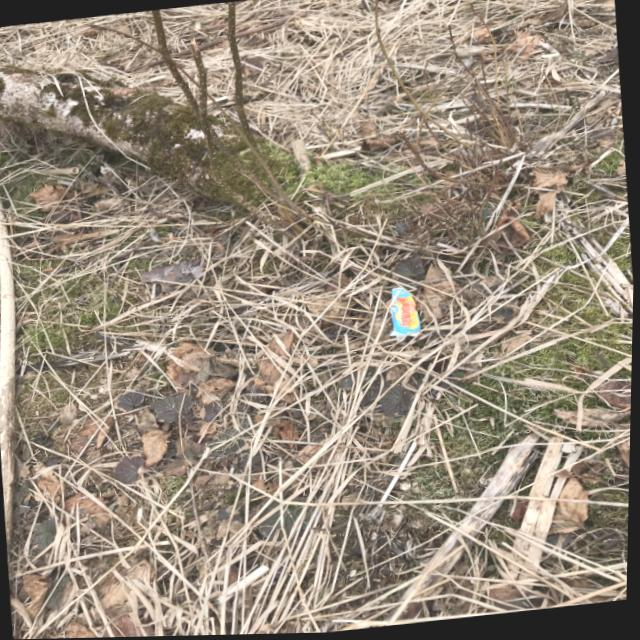Plastic: (383, 284, 427, 351)
